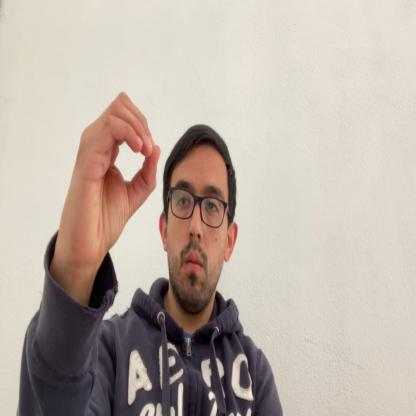O: (60, 90, 160, 272)
